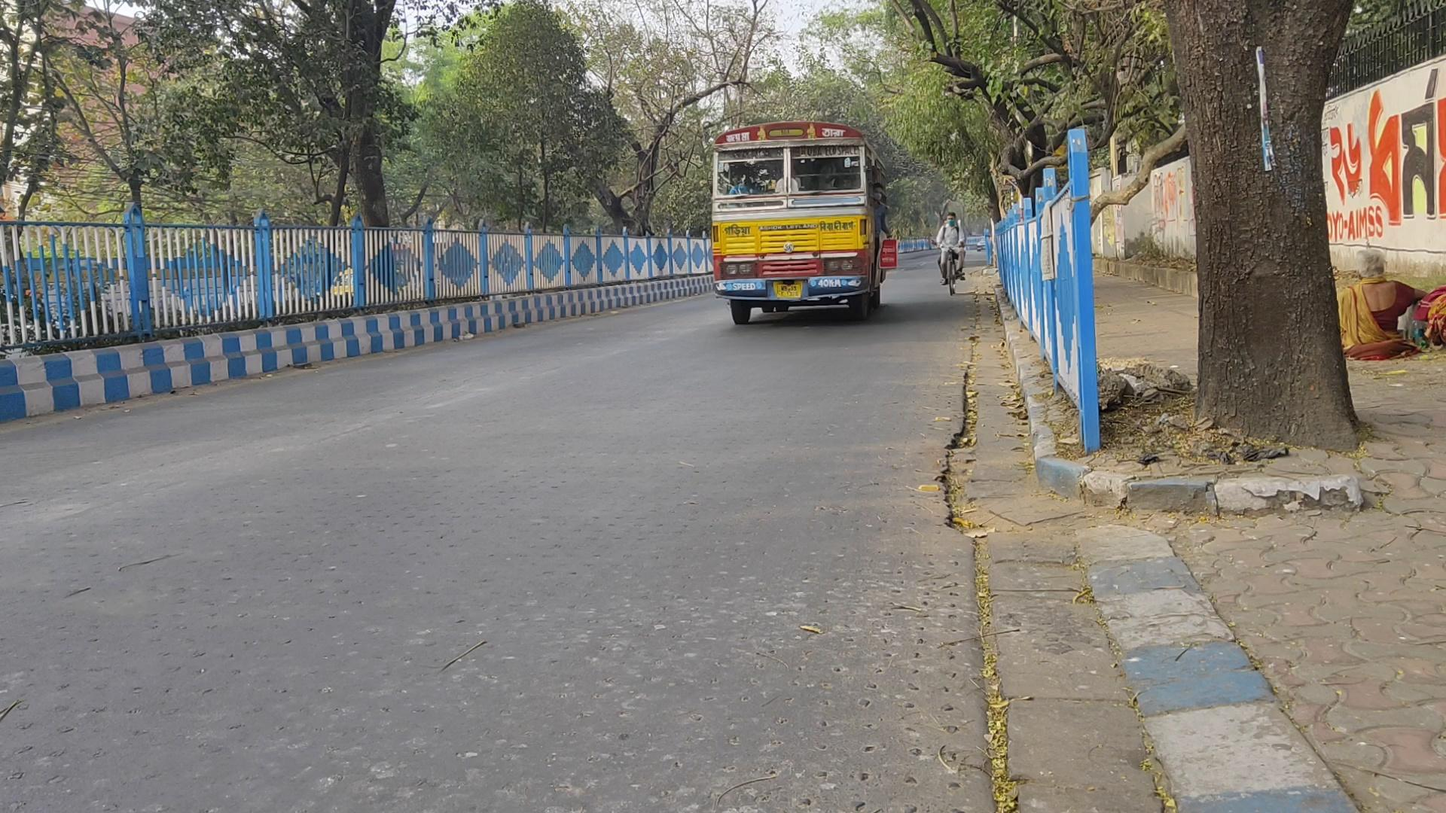Bus: (709, 120, 889, 324)
bike: (935, 212, 969, 297)
